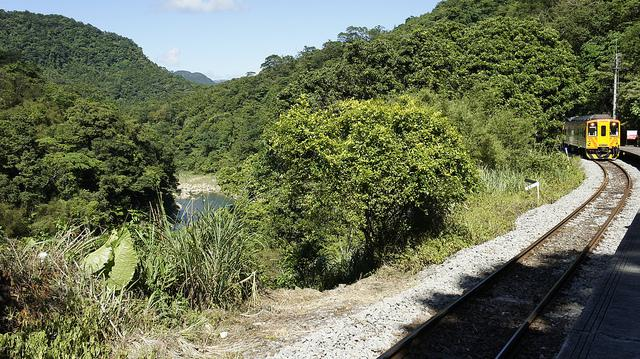Train: (562, 115, 621, 161)
